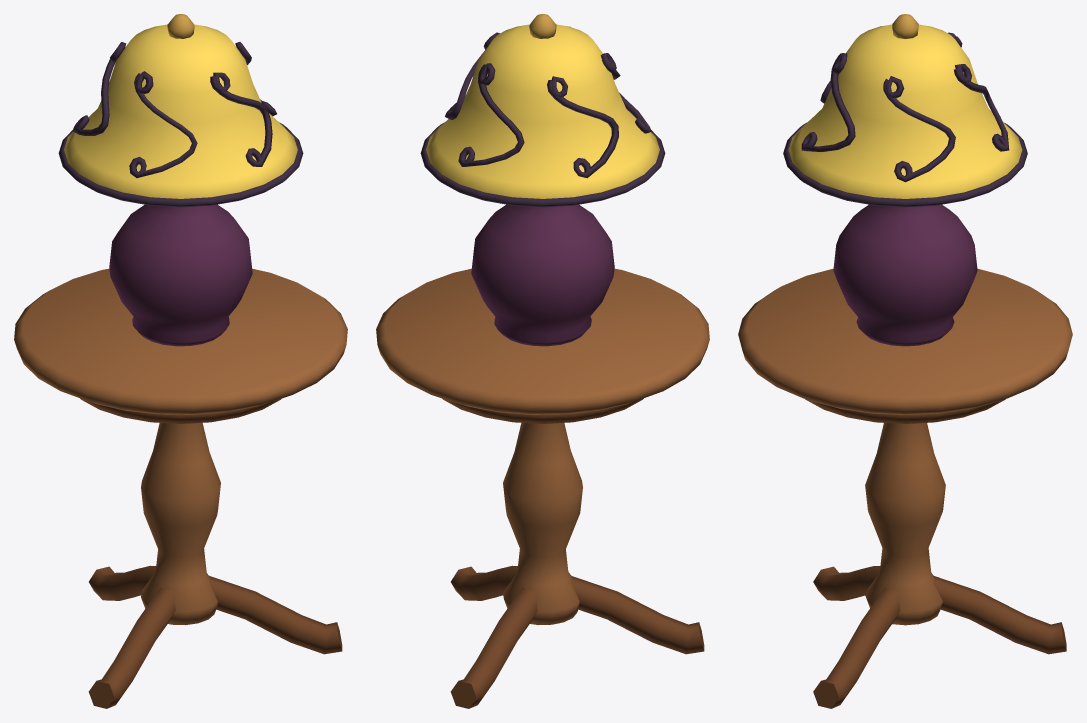
Rendered from side_table_lamp.glb.
The picture shows the model from 3 angles, left to right: view 1: azimuth 30°, elevation 25°; view 2: azimuth 150°, elevation 25°; view 3: azimuth 270°, elevation 25°; orthographic projection.
Parts seen in each view (by area): view 1: side_table_lamp; view 2: side_table_lamp; view 3: side_table_lamp.
Part boxes in pixels (box(x1,y1,x2,y2)): side_table_lamp: box(14, 14, 347, 708); side_table_lamp: box(376, 14, 709, 708); side_table_lamp: box(738, 14, 1072, 708).
Size of the model in its own units: 0.58 by 1.22 by 0.58.
